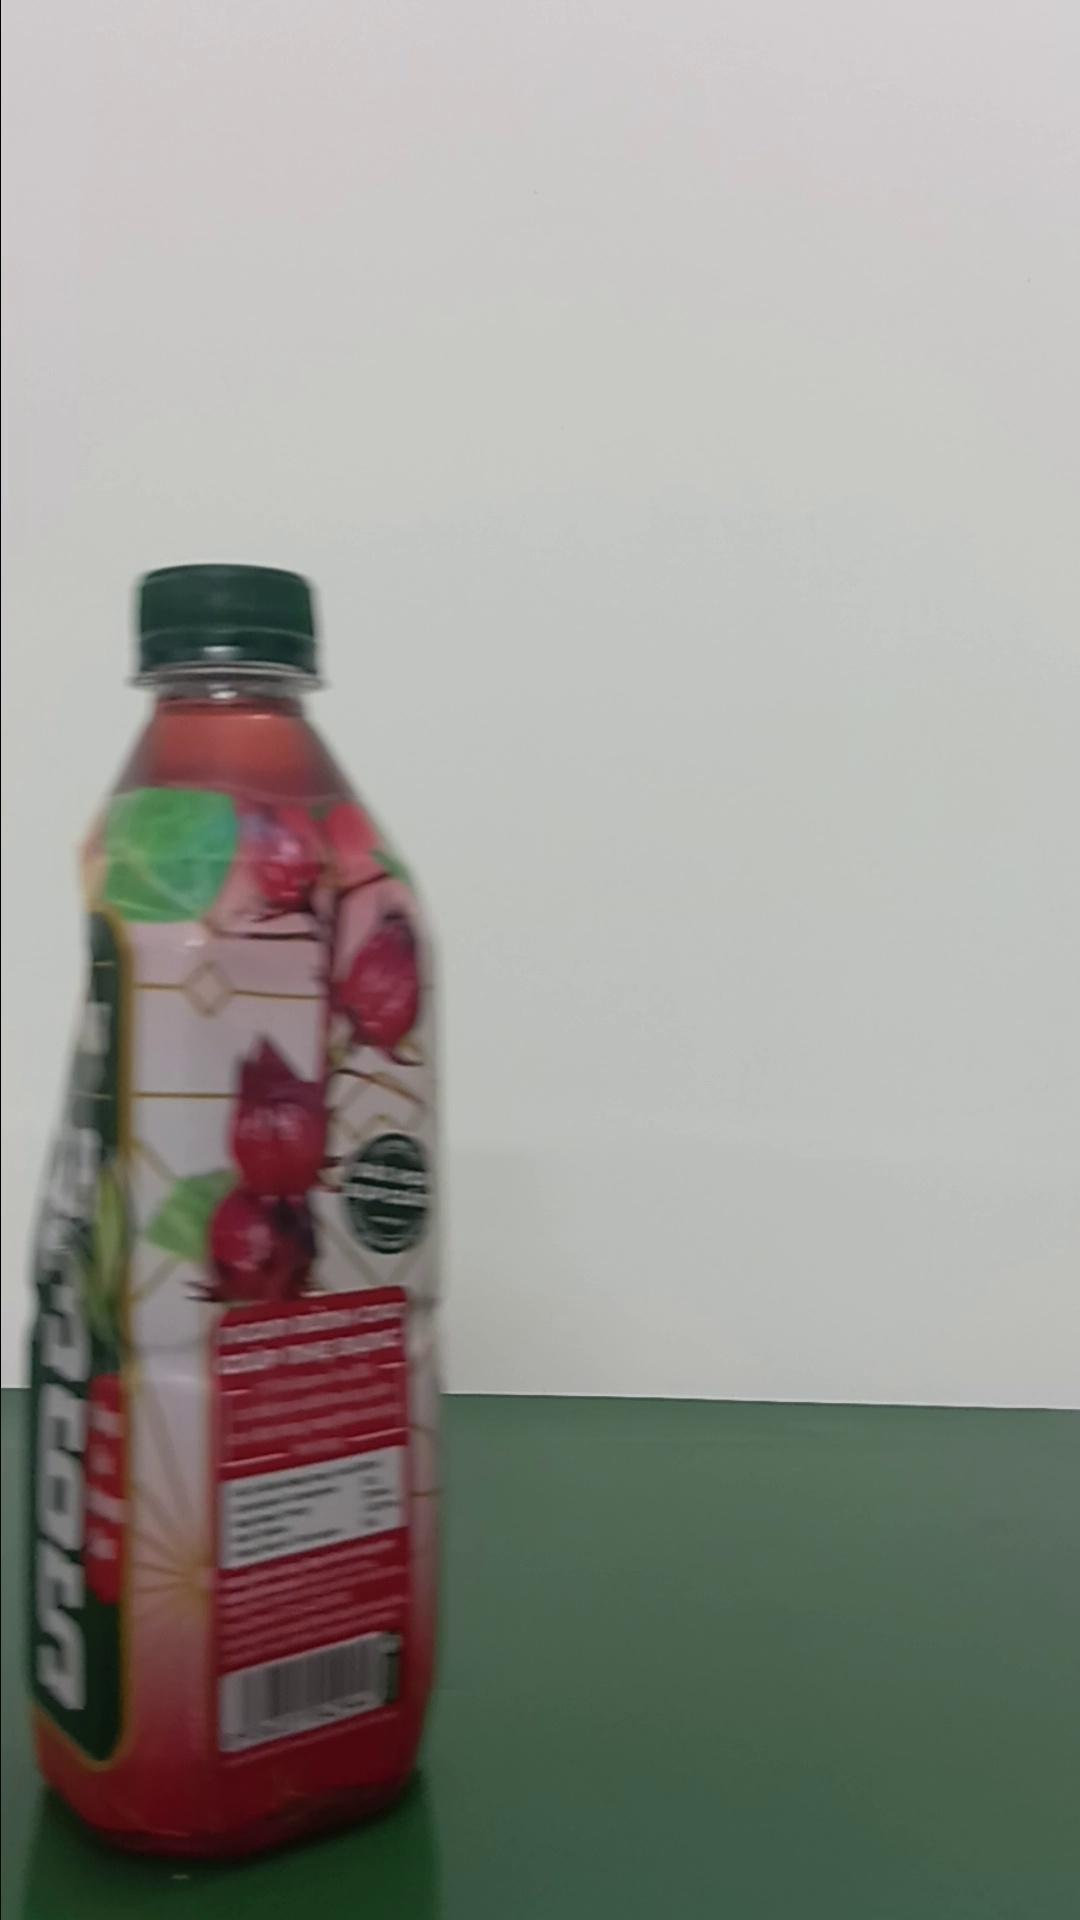loi meo sp: (24, 559, 447, 1859)
